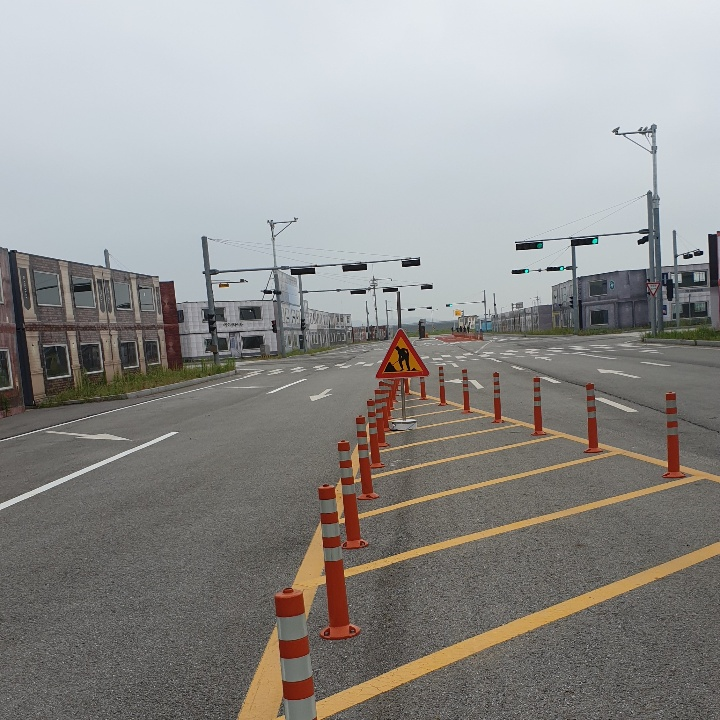const: (381, 342, 420, 375)
